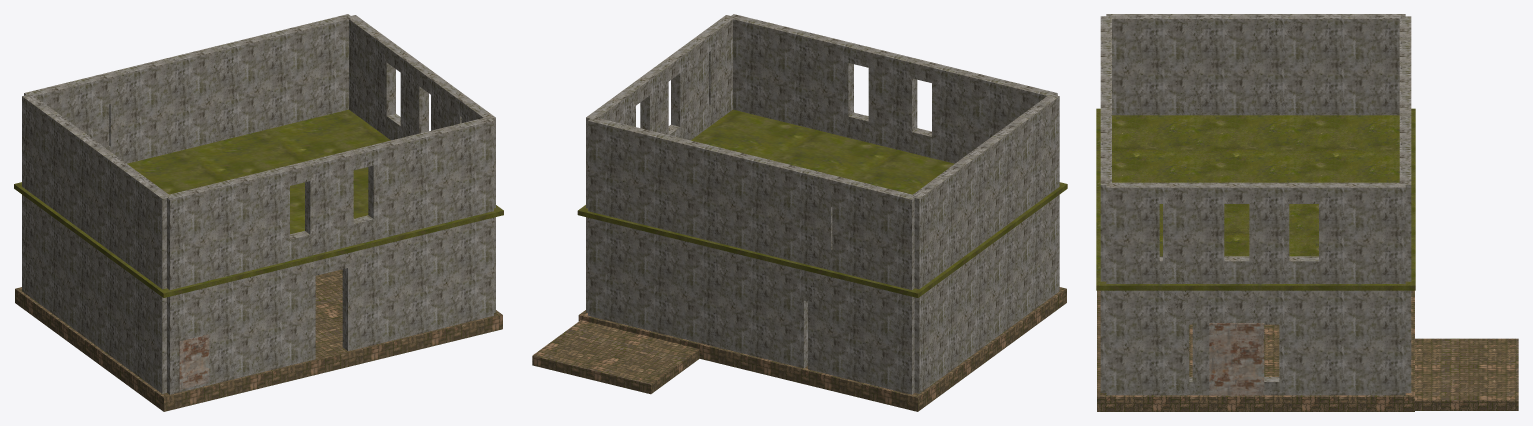
The model's file is Module_Walls.fbx.
The picture shows the model from 3 angles, left to right: view 1: azimuth 30°, elevation 25°; view 2: azimuth 150°, elevation 25°; view 3: azimuth 270°, elevation 25°; orthographic projection. The views are drawn at different scales.
Parts seen in each view (by area): view 1: BAND_mid, WALL_FRONT_pier_7, WALL_FRONT_pier_0, WALL_BACK_pier_4, PLINTH, WALL_WEST_pier_4, WALL_WEST_pier_0, WALL_BACK_pier_2, WALL_FRONT_pier_5, WALL_FRONT_pier_2, WALL_WEST_pier_2, WALL_FRONT_lintel_3 (+23 smaller); view 2: WALL_BACK_pier_4, WALL_BACK_pier_0, WALL_BACK_pier_2, BAND_mid, WALL_WEST_pier_4, PLINTH_annex, PLINTH, WALL_WEST_pier_0, WALL_WEST_pier_2, WALL_FRONT_pier_7, WALL_FRONT_lintel_3, WALL_FRONT_pier_5 (+22 smaller); view 3: BAND_mid, WALL_EAST_pier_5, WALL_EAST_pier_0, WALL_WEST_pier_4, PLINTH_annex, PLINTH, WALL_WEST_pier_2, WALL_WEST_pier_0, WALL_EAST_pier_2, WALL_EAST_lintel_3, PATCH_damaged_east, WALL_EAST_sill_4 (+17 smaller).
Boxes of the visible parts, x1,y1,x2,y2 form: BAND_mid: (14,109,503,297); WALL_FRONT_pier_7: (427,116,493,330); WALL_FRONT_pier_0: (165,180,231,394); WALL_BACK_pier_4: (228,14,352,137); PLINTH: (15,269,502,411); WALL_WEST_pier_4: (22,94,79,325); WALL_WEST_pier_0: (129,172,170,393); WALL_BACK_pier_2: (132,49,208,160); WALL_FRONT_pier_5: (368,138,406,344); WALL_FRONT_pier_2: (252,166,289,373); WALL_WEST_pier_2: (84,139,124,359); WALL_FRONT_lintel_3: (305,152,353,276); WALL_BACK_pier_4: (588,117,712,344); WALL_BACK_pier_0: (832,176,915,394); WALL_BACK_pier_2: (732,152,808,368); BAND_mid: (577,109,1067,297); WALL_WEST_pier_4: (910,161,967,393); PLINTH_annex: (532,320,699,394); PLINTH: (578,287,1066,411); WALL_WEST_pier_0: (1018,95,1059,314); WALL_WEST_pier_2: (973,128,1012,347); WALL_FRONT_pier_7: (729,14,795,123); WALL_FRONT_lintel_3: (868,48,917,152); WALL_FRONT_pier_5: (816,35,853,137); BAND_mid: (1096,108,1415,290); WALL_EAST_pier_5: (1319,182,1405,395); WALL_EAST_pier_0: (1106,182,1159,395); WALL_WEST_pier_4: (1302,14,1405,115); PLINTH_annex: (1415,338,1518,410); PLINTH: (1097,290,1414,411); WALL_WEST_pier_2: (1206,14,1272,115); WALL_WEST_pier_0: (1106,14,1176,115); WALL_EAST_pier_2: (1192,182,1224,395); WALL_EAST_lintel_3: (1249,182,1279,324); PATCH_damaged_east: (1209,323,1264,395); WALL_EAST_sill_4: (1289,256,1318,395).
Bounding box in the file's own units: 1260 × 740 × 1270.
Materials: 4 (4 with a texture image).
